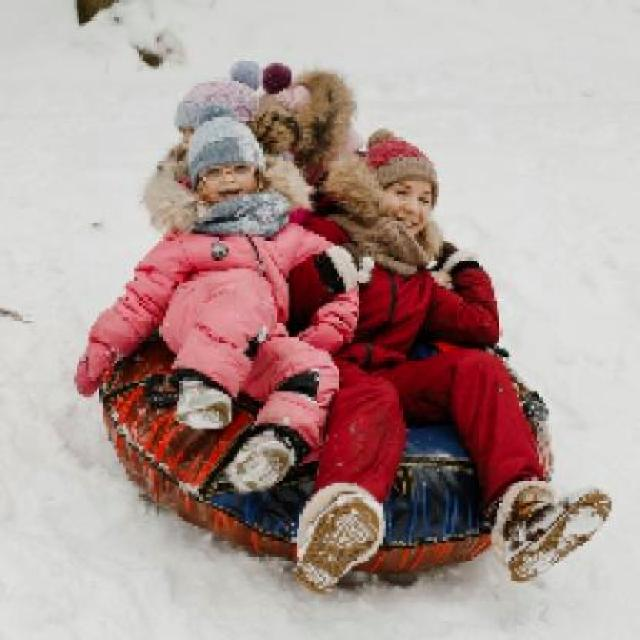child: (72, 99, 365, 495)
